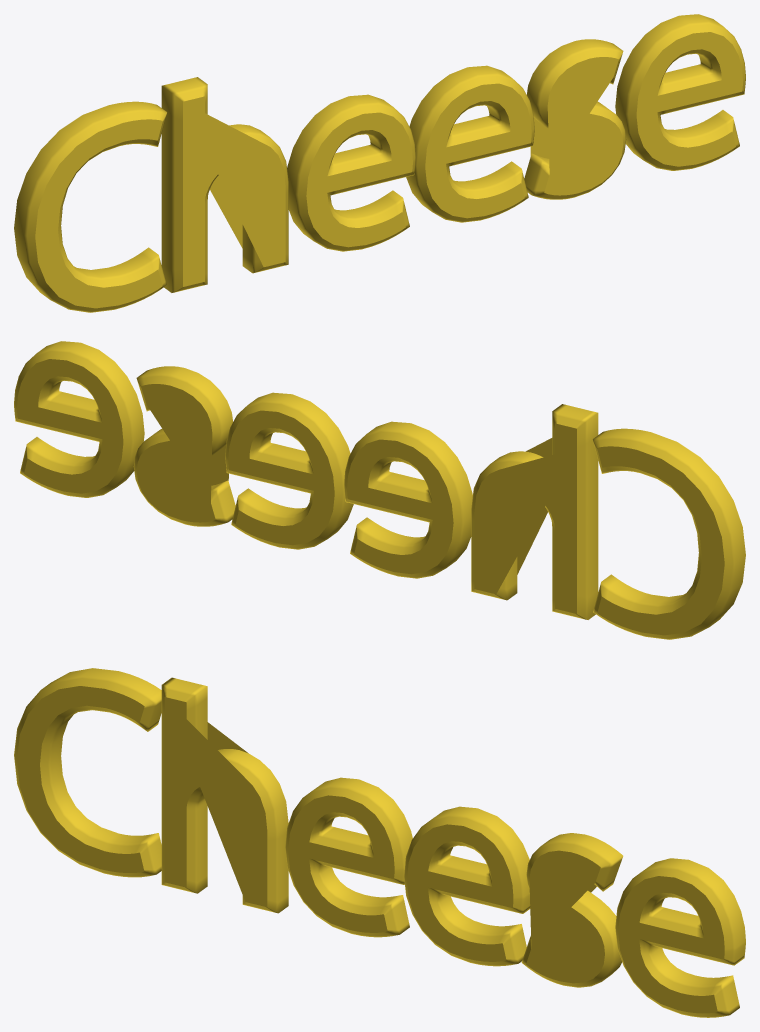
The model's file is Cheese.fbx.
The picture shows the model from 3 angles, top to bottom: view 1: azimuth 30°, elevation 25°; view 2: azimuth 150°, elevation 25°; view 3: azimuth 330°, elevation 25°; orthographic projection.
Parts seen in each view (by area): view 1: bevelPolygon18, bevelPolygon17, bevelPolygon34, bevelPolygon32, bevelPolygon33, bevelPolygon19; view 2: bevelPolygon18, bevelPolygon17, bevelPolygon34, bevelPolygon32, bevelPolygon33, bevelPolygon19; view 3: bevelPolygon18, bevelPolygon17, bevelPolygon32, bevelPolygon33, bevelPolygon34, bevelPolygon19.
Part boxes in pixels (x1,y1,x2,y2): bevelPolygon18: (161,77,288,292); bevelPolygon17: (14,101,166,312); bevelPolygon34: (287,94,415,251); bevelPolygon32: (615,14,745,170); bevelPolygon33: (406,65,534,222); bevelPolygon19: (524,39,626,199); bevelPolygon18: (471,404,598,619); bevelPolygon17: (593,428,745,639); bevelPolygon34: (344,421,472,578); bevelPolygon32: (14,341,144,497); bevelPolygon33: (225,392,353,549); bevelPolygon19: (133,366,235,526); bevelPolygon18: (161,677,288,913); bevelPolygon17: (14,668,161,877); bevelPolygon32: (615,858,745,1017); bevelPolygon33: (404,806,530,966); bevelPolygon34: (285,777,412,937); bevelPolygon19: (521,833,623,987).
Size of the model in its own units: 10.29 by 2.76 by 0.45.
